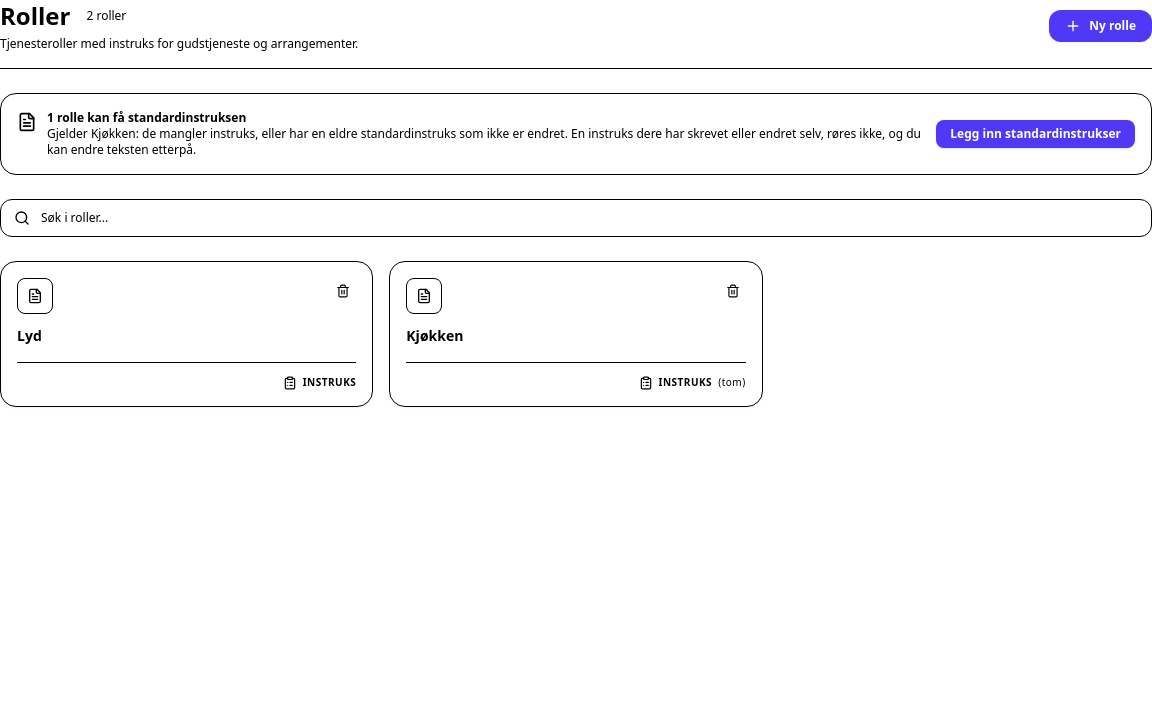
RolesTab › åpner instruks-dialog for valgt rolle
The image size is (1152, 720).
Click the button "Instruks" at (320, 382), box [283, 375, 356, 390]
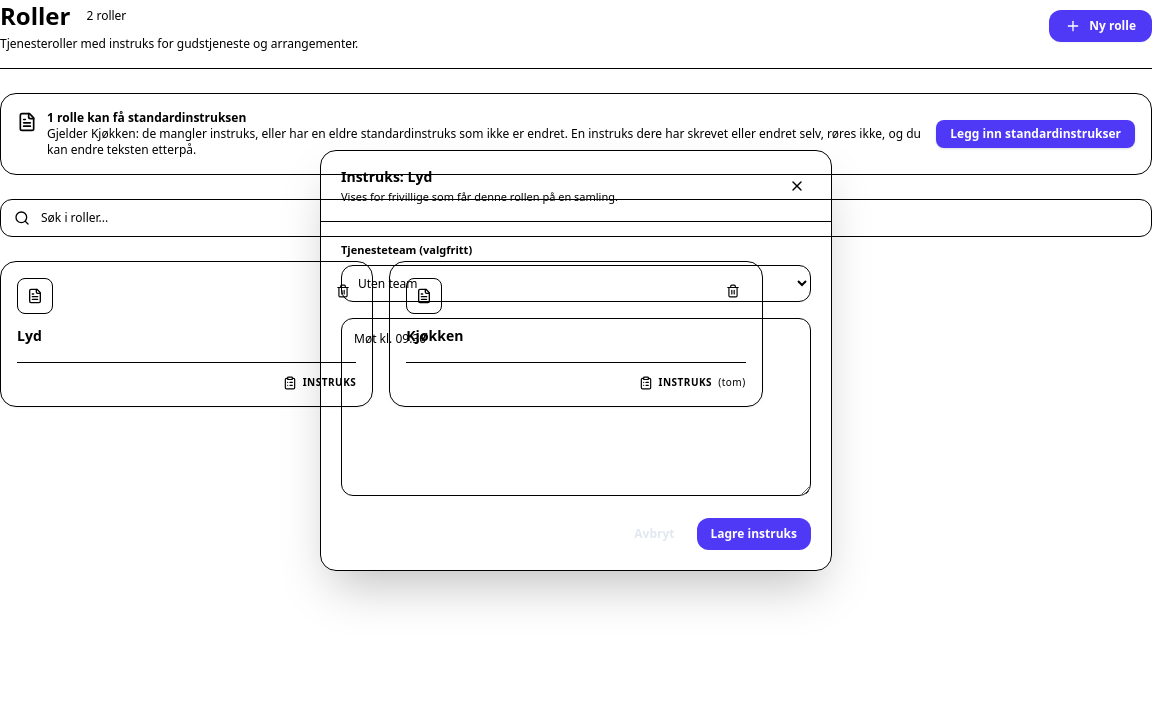
Check: the heading "Instruks: Lyd" is shown, box [341, 166, 432, 186]
Check: the text box showing "Møt kl. 09:30" is shown, box [341, 318, 811, 496]
